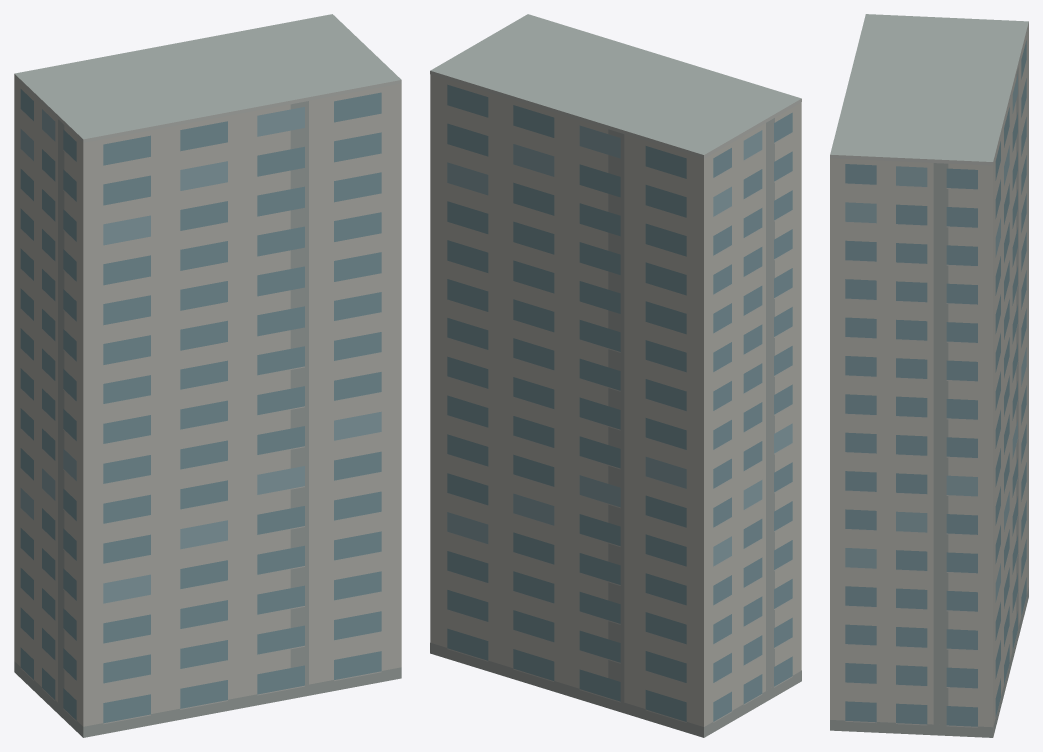
File: residential-2a6944cb-5617-470e-8fcd-7590211f1f9f.glb
The picture shows the model from 3 angles, left to right: view 1: azimuth 30°, elevation 25°; view 2: azimuth 150°, elevation 25°; view 3: azimuth 270°, elevation 25°; orthographic projection. The views are drawn at different scales.
Parts seen in each view (by area): view 1: residential-2a6944cb-5617-470e-8fcd-7590211f1f9f.tmp; view 2: residential-2a6944cb-5617-470e-8fcd-7590211f1f9f.tmp; view 3: residential-2a6944cb-5617-470e-8fcd-7590211f1f9f.tmp.
Boxes of the visible parts, left/top/right/bottom form: residential-2a6944cb-5617-470e-8fcd-7590211f1f9f.tmp: left=14, top=14, right=401, bottom=737; residential-2a6944cb-5617-470e-8fcd-7590211f1f9f.tmp: left=430, top=14, right=801, bottom=737; residential-2a6944cb-5617-470e-8fcd-7590211f1f9f.tmp: left=830, top=14, right=1028, bottom=737.
Bounding box in the file's own units: 21.52 × 39 × 12.21.
